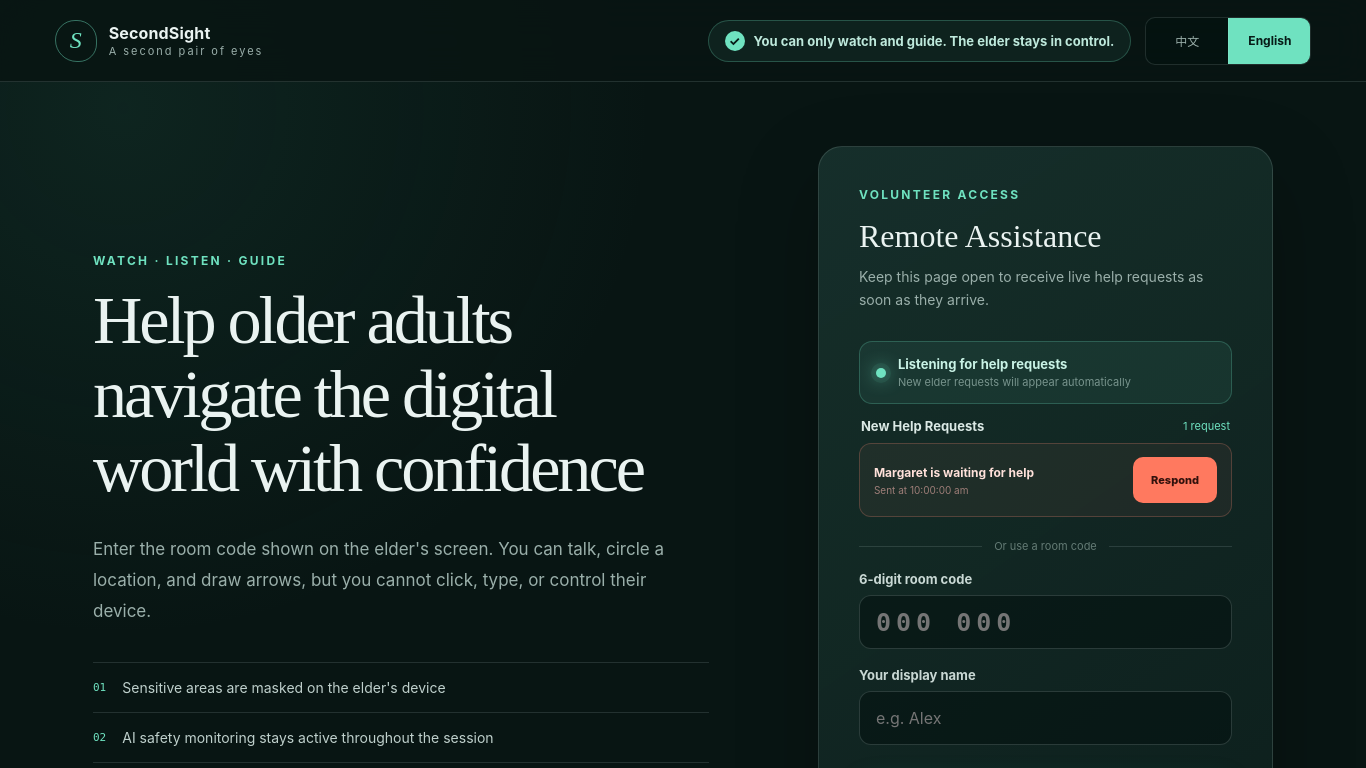
volunteer app › stops prepared media when a broadcast was already claimed
Type "Alex" into the field labelled "Your display name" at coordinates (1045, 718), box left=859, top=691, right=1232, bottom=745
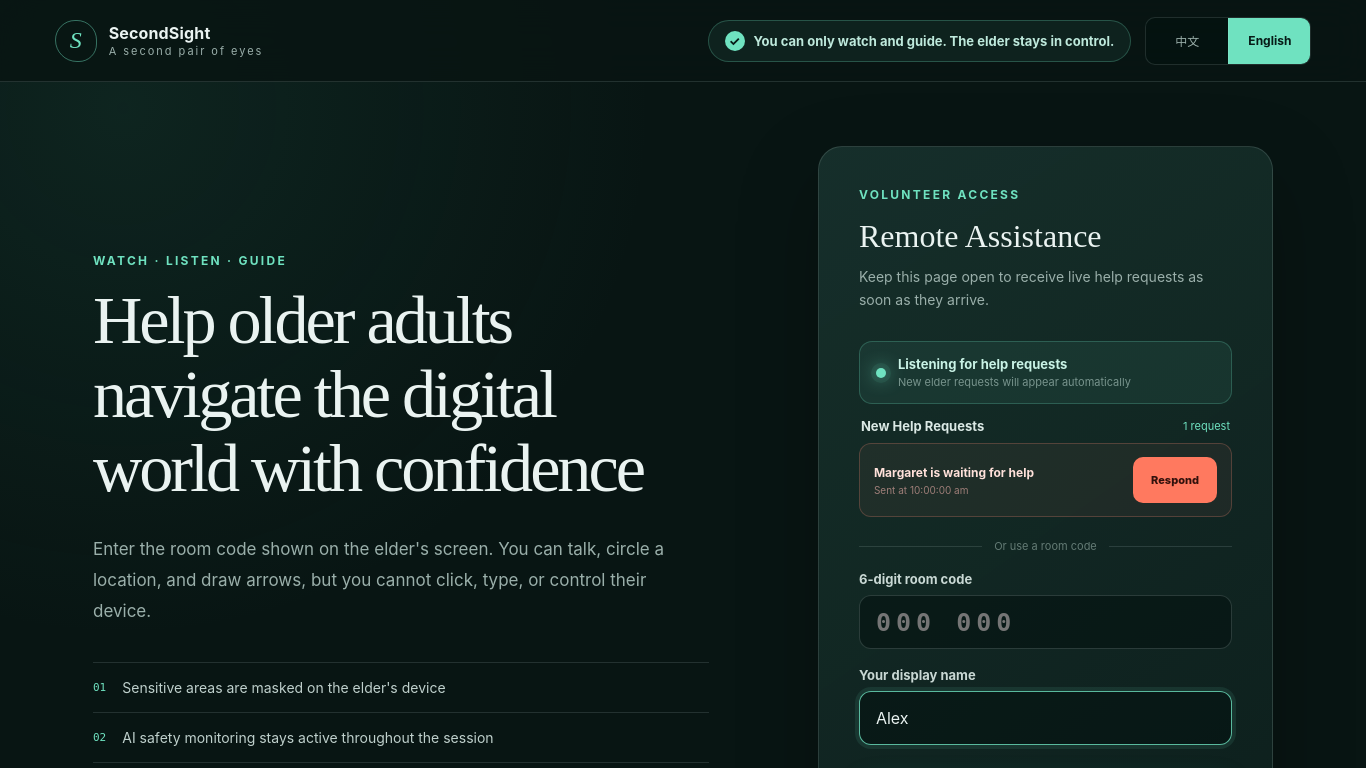
Click the button "Respond" at coordinates (1175, 480), box left=1133, top=457, right=1217, bottom=503
(page scrolled)
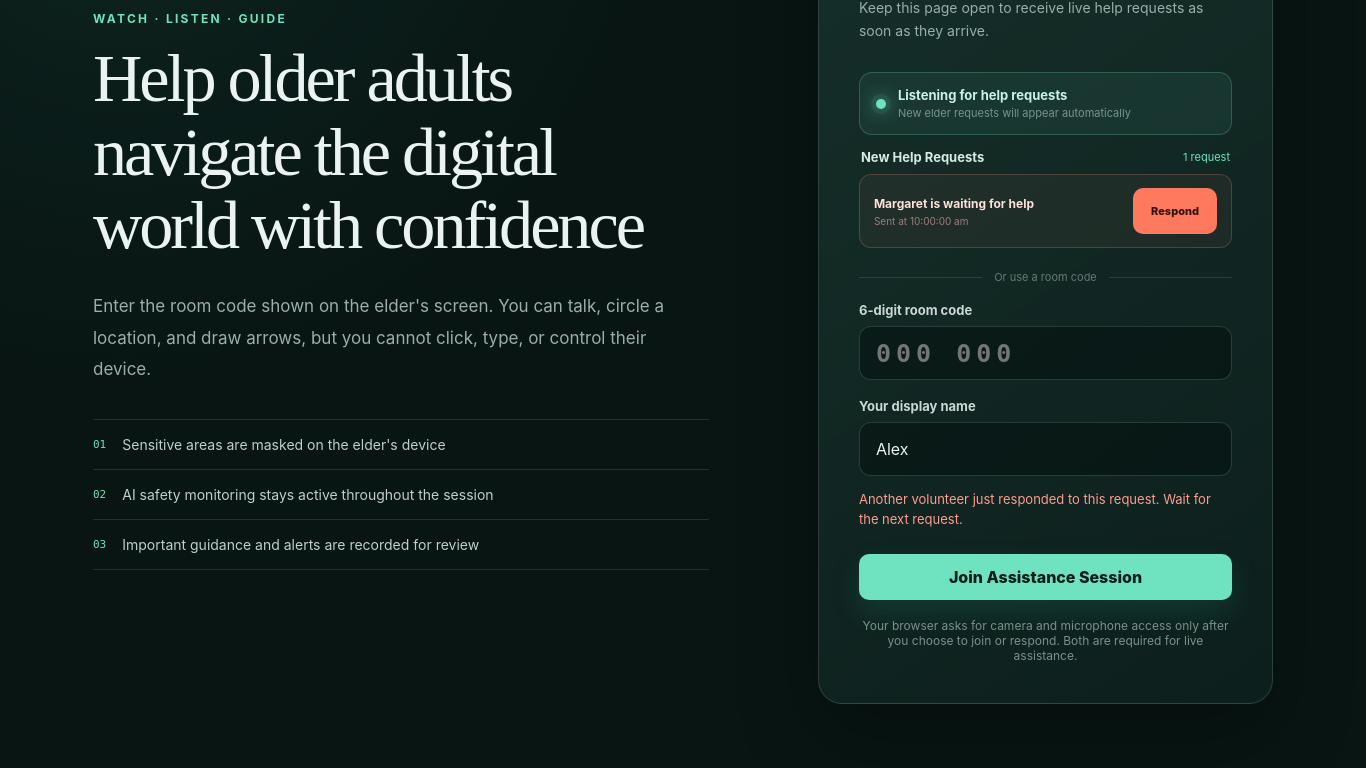
Now the message "Another volunteer just responded to this request. Wait for the next request." is shown, box left=859, top=490, right=1232, bottom=529
